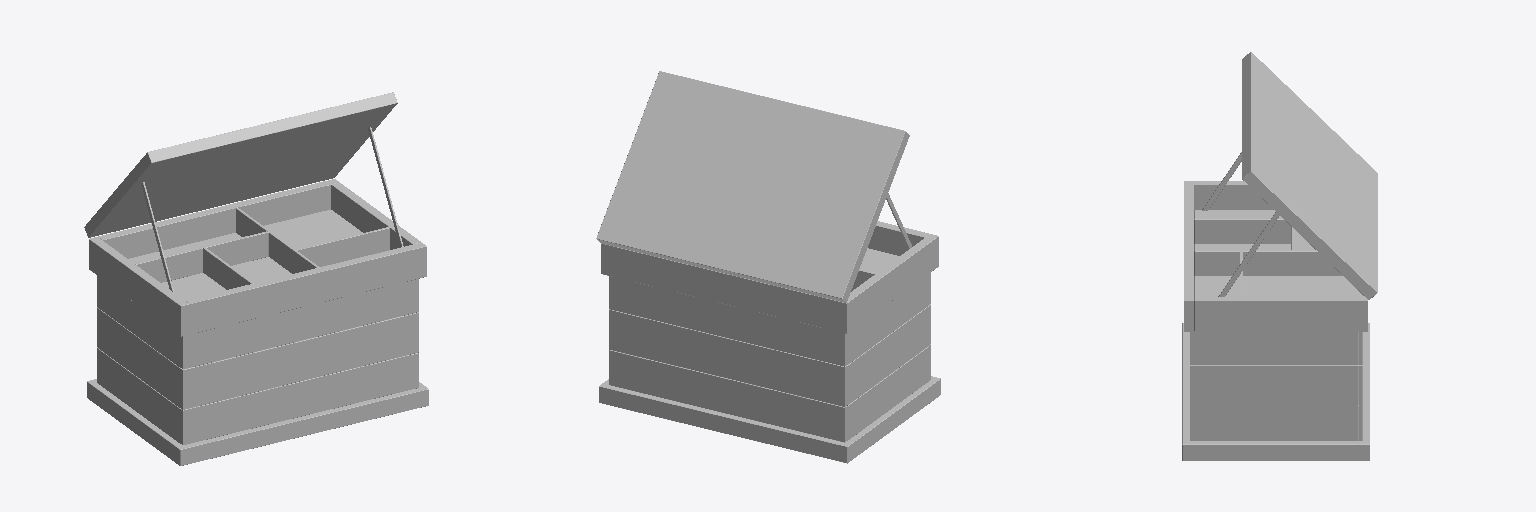
The model's file is toolTable.obj.
3 views of the same model, side by side, from view 1: azimuth 30°, elevation 25°; view 2: azimuth 150°, elevation 25°; view 3: azimuth 270°, elevation 25° (orthographic).
Parts seen in each view (by area): view 1: Cube.043; view 2: Cube.043; view 3: Cube.043.
Boxes of the visible parts, <box> form: Cube.043: <box>84,92,428,465</box>; Cube.043: <box>596,71,940,463</box>; Cube.043: <box>1182,52,1377,460</box>.
Bounding box in the file's own units: 0.9818 × 1.09 × 0.6665.